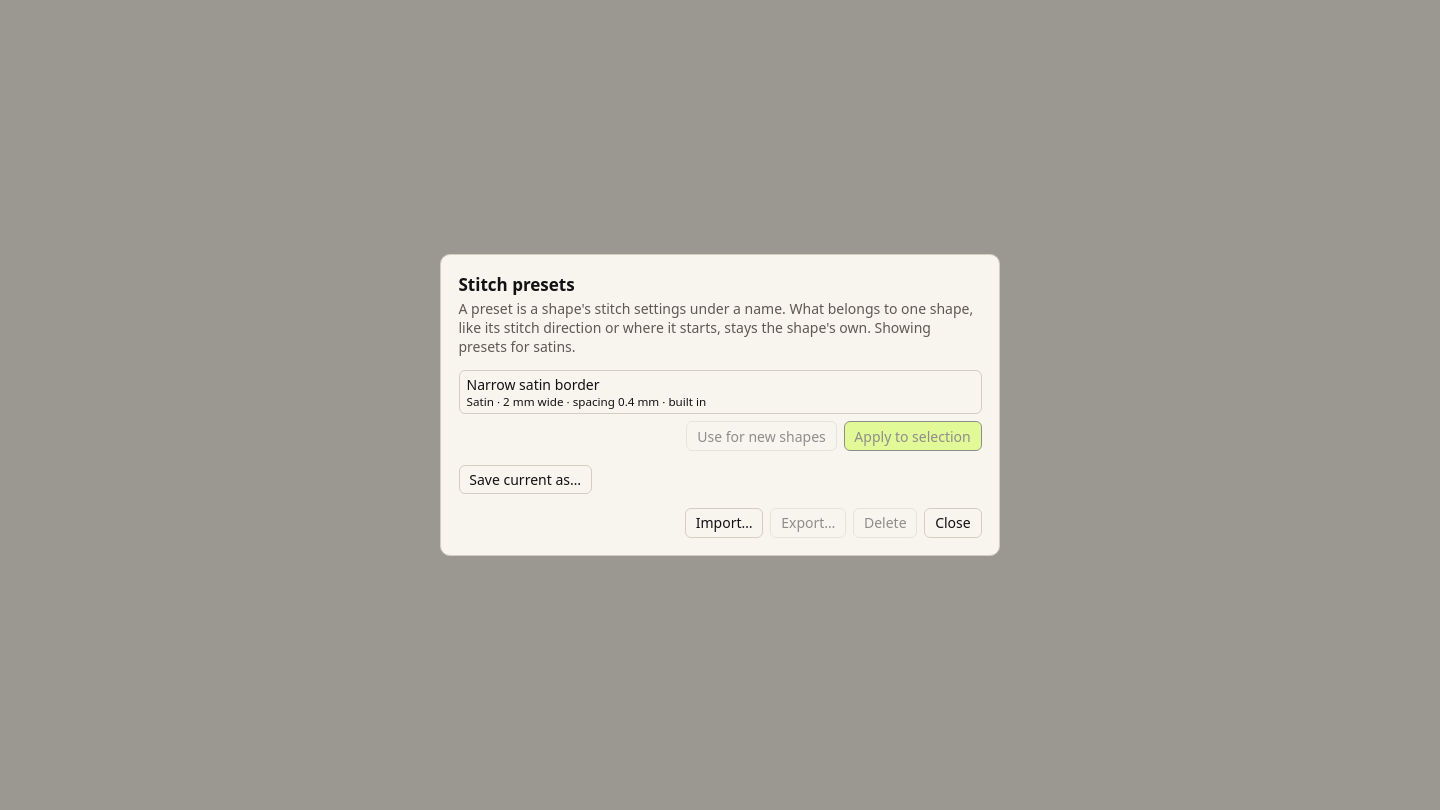
Test: the Stitch presets window › can't delete or replace a built-in, and uses one for new shapes
Step 1. Click the button that starts with "Narrow satin border" → {"x": 533, "y": 385}, box top-left (458, 370), bottom-right (982, 414)
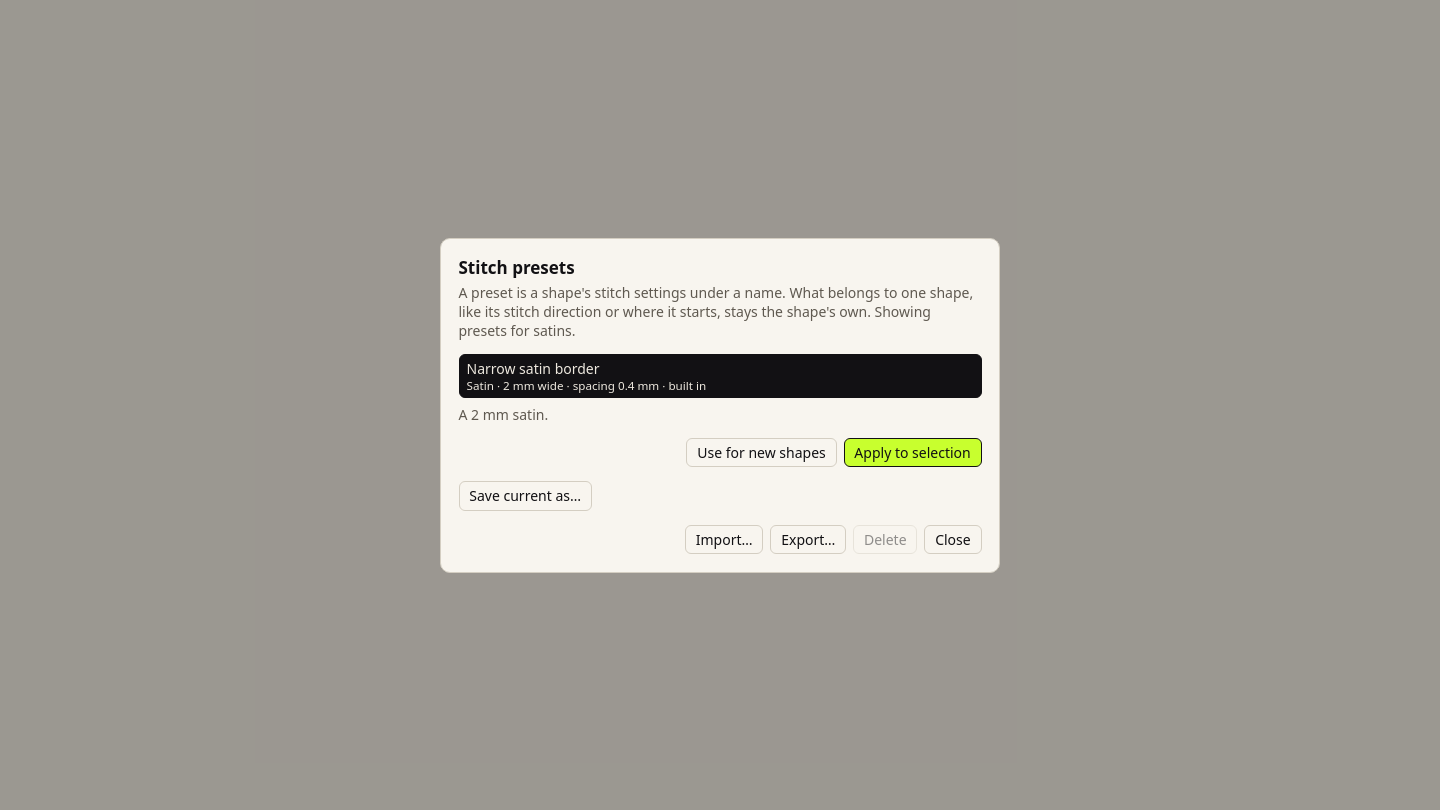
expect the button "Delete" is disabled: met, box top-left (853, 525), bottom-right (917, 554)
Step 2. Click the button "Use for new shapes" → {"x": 761, "y": 453}, box top-left (686, 438), bottom-right (836, 467)
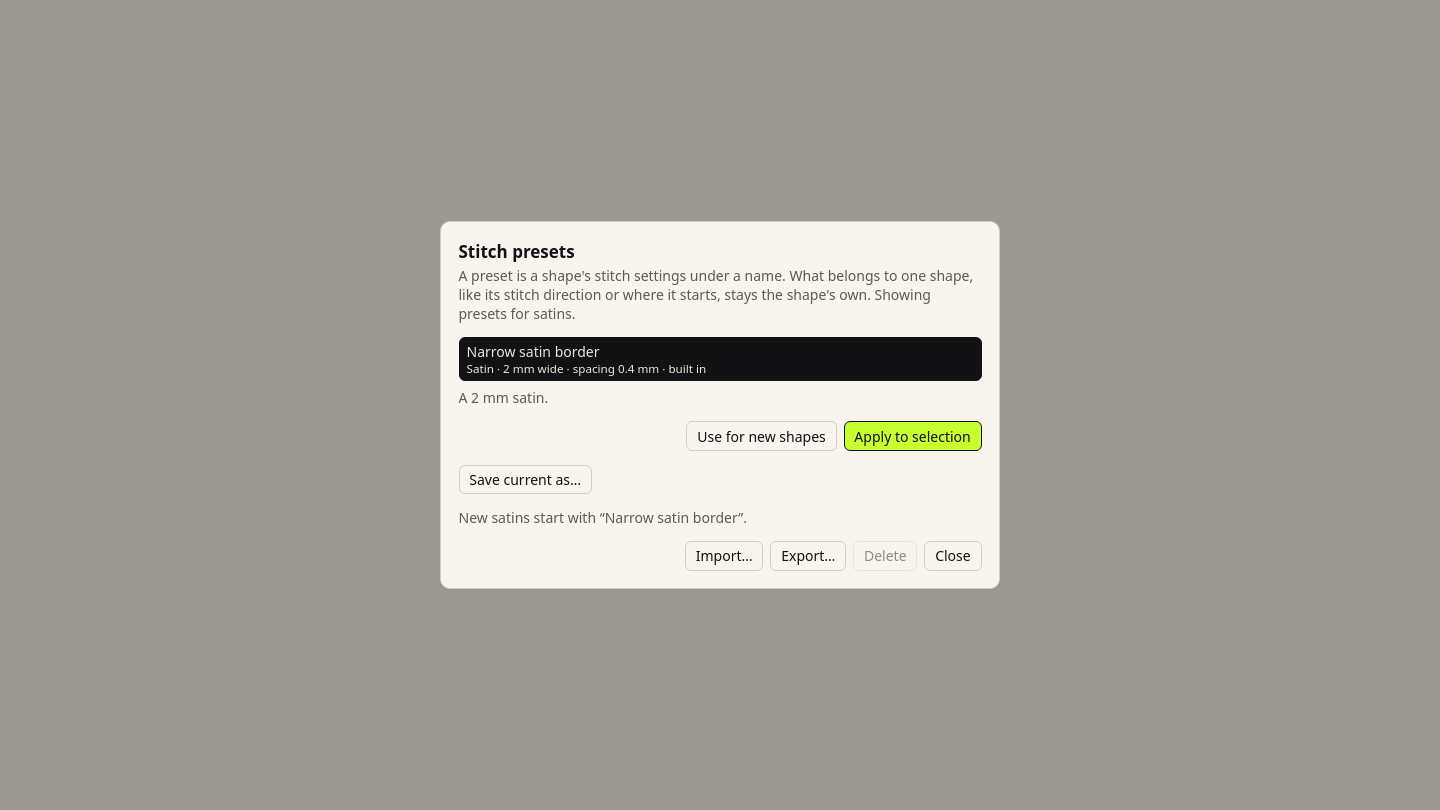
expect the dialog shows "New satins start with “Narrow satin border”": met, box top-left (458, 508), bottom-right (747, 527)
